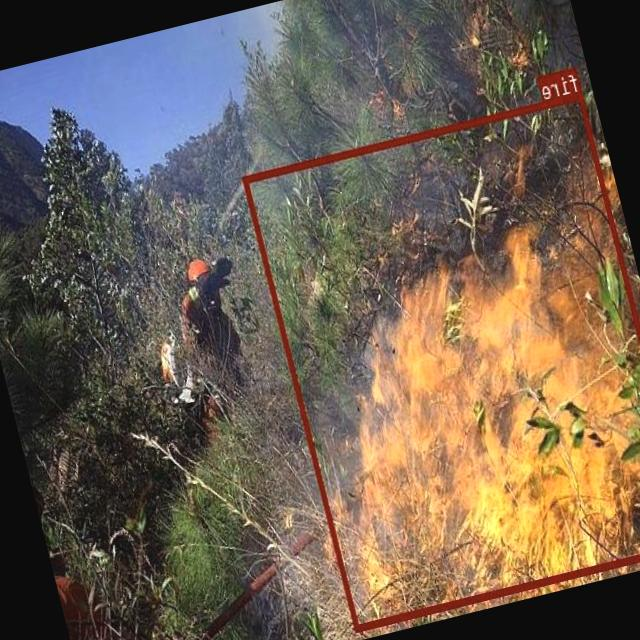fire: (243, 89, 640, 630)
